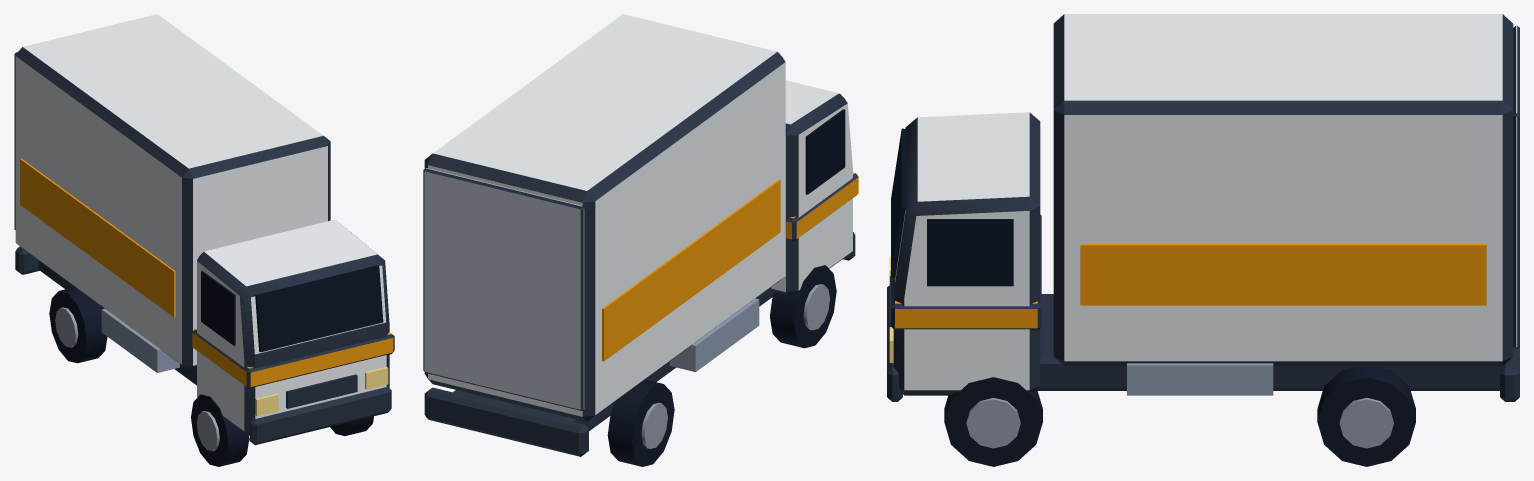
3 views of the same model, side by side, from view 1: azimuth 30°, elevation 25°; view 2: azimuth 150°, elevation 25°; view 3: azimuth 270°, elevation 25° (orthographic). The views are drawn at different scales.
Parts seen in each view (by area): view 1: box_2t; view 2: box_2t; view 3: box_2t.
Part boxes in pixels (box(x1,y1,x2,y2)): box_2t: box(14, 14, 394, 466); box_2t: box(423, 14, 858, 466); box_2t: box(887, 14, 1519, 466).
Bounding box in the file's own units: 1.74 × 3 × 4.75.
